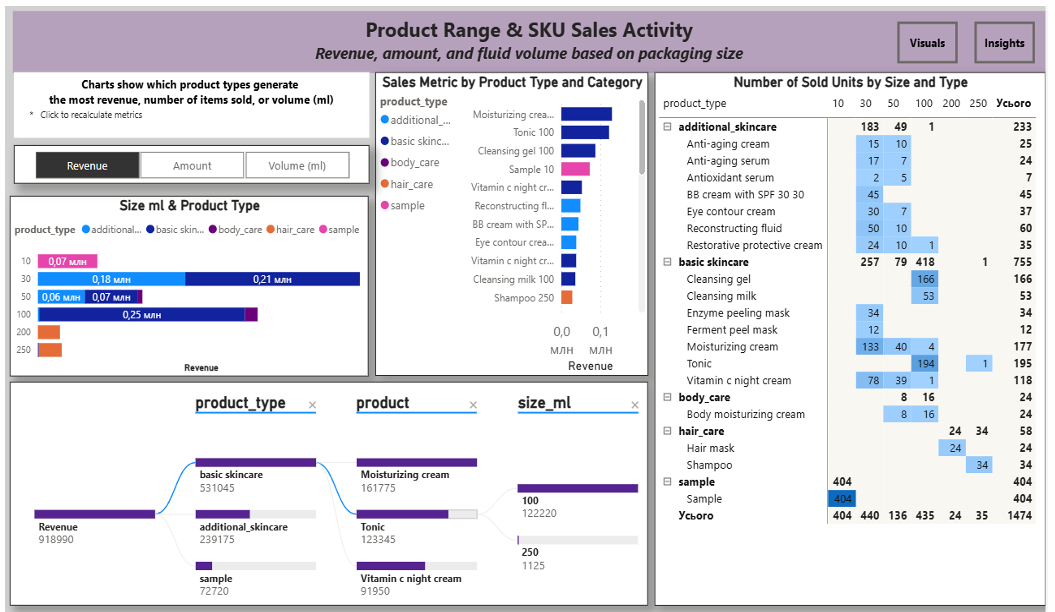

The dashboard page shown, as its layout file describes it:
{"tool":"powerbi","page":{"name":" Size","canvas":[1280,720],"ordinal":4},"visuals":[{"type":"textbox","title":"Заголовок","box":[8.7,6.2,1271.1,73.2],"z":0},{"type":"barChart","title":"Size ml & Product Type","fields":{"Y":["_DAX_measures_.Total Revenue"],"Category":["price.size_ml"],"Series":["price.product_type"]},"box":[4.5,224.8,441.8,213.7],"z":0,"group":"g1"},{"type":"group","id":"g1","title":"Графіки","box":[4.5,79,1275.3,631],"z":1000},{"type":"textbox","box":[9,79,437.3,77.9],"z":1000,"group":"g1"},{"type":"barChart","title":"Sales Metric by Product Type and Category","fields":{"Y":["_DAX_measures_.Total Revenue"],"Category":["price.product_full"],"Series":["price.product_type"]},"box":[454.1,79,336.1,359.4],"z":2000,"group":"g1"},{"type":"actionButton","title":"графіки кнопка","box":[1097.3,18.6,74.5,49.7],"z":3000},{"type":"decompositionTreeVisual","fields":{"Analyze":["_DAX_measures_.Total Revenue"],"ExplainBy":["price.product_type","sells.product","sells.size_ml"]},"box":[4.5,445.1,785.7,264.9],"z":3000,"group":"g1"},{"type":"actionButton","title":"висновки кнопка","box":[1192.9,18.6,74.5,49.7],"z":4000},{"type":"pivotTable","title":"Number of Sold Units by Size and Type ","fields":{"Columns":["price.size_ml"],"Values":["_DAX_measures_.Total Amount"],"Rows":["price.product_type","price.product"]},"box":[797.9,79,481.9,631],"z":4000,"group":"g1"},{"type":"slicer","fields":{"Values":["Параметр.Параметр"]},"box":[9,165.8,437.3,45.6],"z":5000,"group":"g1"}]}

Visuals, with their boxes on the page's 1280x720 design canvas (x1, y1, x2, y2). These are canvas units, not pixel positions in the 1055x612 screenshot, which may show the page scaled, cropped or inside an application window:
"Заголовок" textbox: [left=9, top=6, right=1280, bottom=79]
"Size ml & Product Type" barChart: [left=4, top=225, right=446, bottom=438]
"Графіки" group: [left=4, top=79, right=1280, bottom=710]
textbox: [left=9, top=79, right=446, bottom=157]
"Sales Metric by Product Type and Category" barChart: [left=454, top=79, right=790, bottom=438]
"графіки кнопка" actionButton: [left=1097, top=19, right=1172, bottom=68]
decompositionTreeVisual - _DAX_measures_.Total Revenue x price.product_type: [left=4, top=445, right=790, bottom=710]
"висновки кнопка" actionButton: [left=1193, top=19, right=1267, bottom=68]
"Number of Sold Units by Size and Type " pivotTable: [left=798, top=79, right=1280, bottom=710]
slicer - Параметр.Параметр: [left=9, top=166, right=446, bottom=211]
